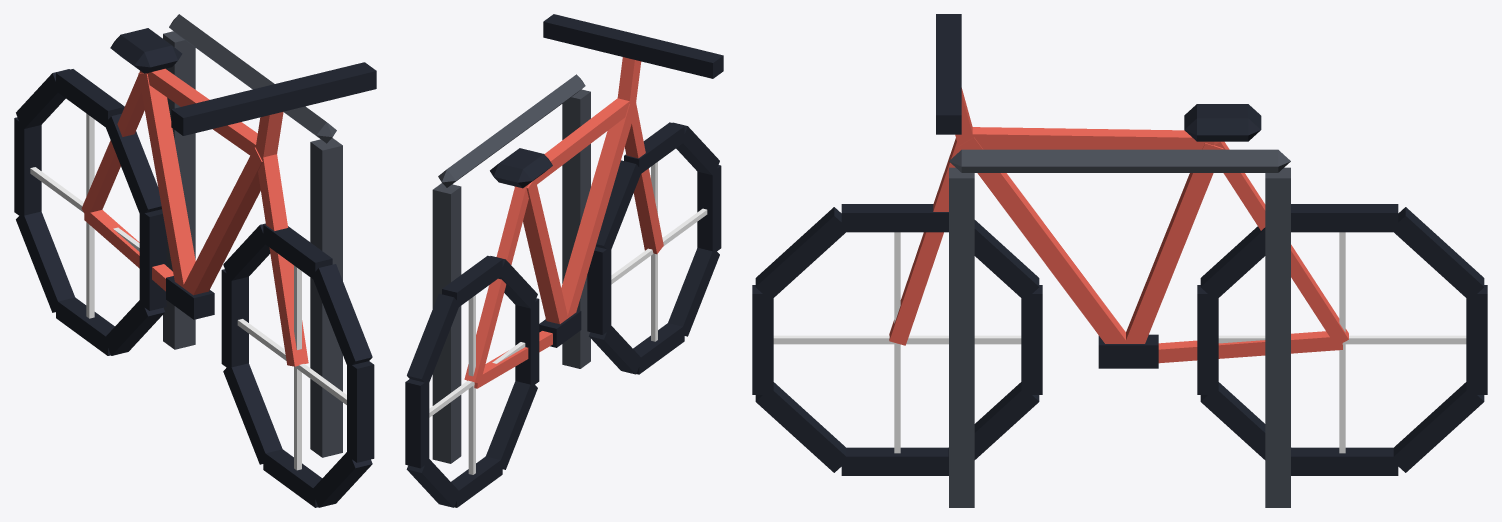
Rendered from bicycle-parked.glb.
3 views of the same model, side by side, from view 1: azimuth 30°, elevation 25°; view 2: azimuth 150°, elevation 25°; view 3: azimuth 270°, elevation 25° (orthographic). The views are drawn at different scales.
Visible parts, largest first — view 1: bicycle-parked; view 2: bicycle-parked; view 3: bicycle-parked.
Part boxes in pixels (x1,y1,x2,y2): bicycle-parked: (14,14,376,507); bicycle-parked: (405,14,723,507); bicycle-parked: (752,14,1487,507).
Bounding box in the file's own units: 0.56 × 1.05 × 1.72.
